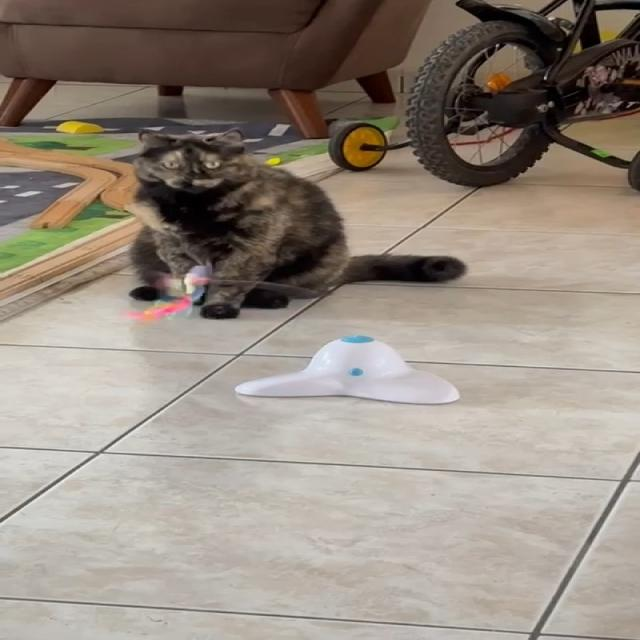authorized: (124, 127, 467, 319)
